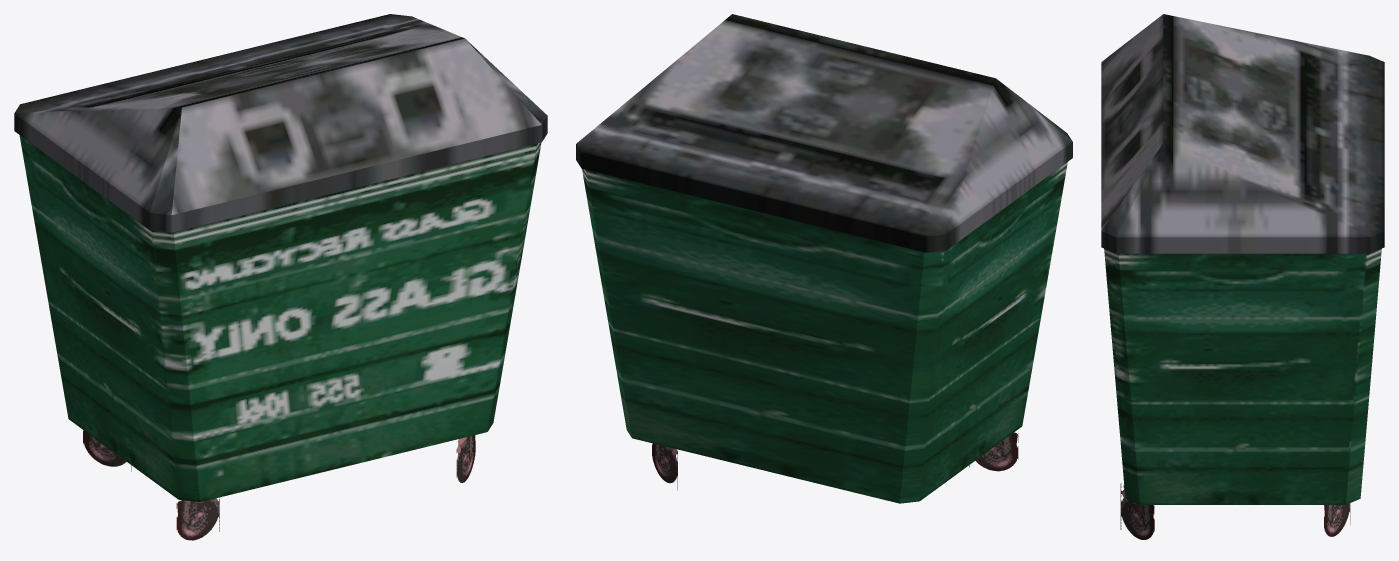
File: binnt02_la.obj
3 renders of one model, left to right at view 1: azimuth 30°, elevation 25°; view 2: azimuth 150°, elevation 25°; view 3: azimuth 270°, elevation 25°, orthographic. The views are drawn at different scales.
Parts seen in each view (by area): view 1: BinNt02_LA; view 2: BinNt02_LA; view 3: BinNt02_LA.
Boxes of the visible parts, bbox=[...] form: BinNt02_LA: bbox=[14, 14, 547, 540]; BinNt02_LA: bbox=[576, 14, 1072, 503]; BinNt02_LA: bbox=[1101, 14, 1384, 539].
Bounding box in the file's own units: 1.99 × 2.05 × 1.32.
3 materials, 3 textured.
